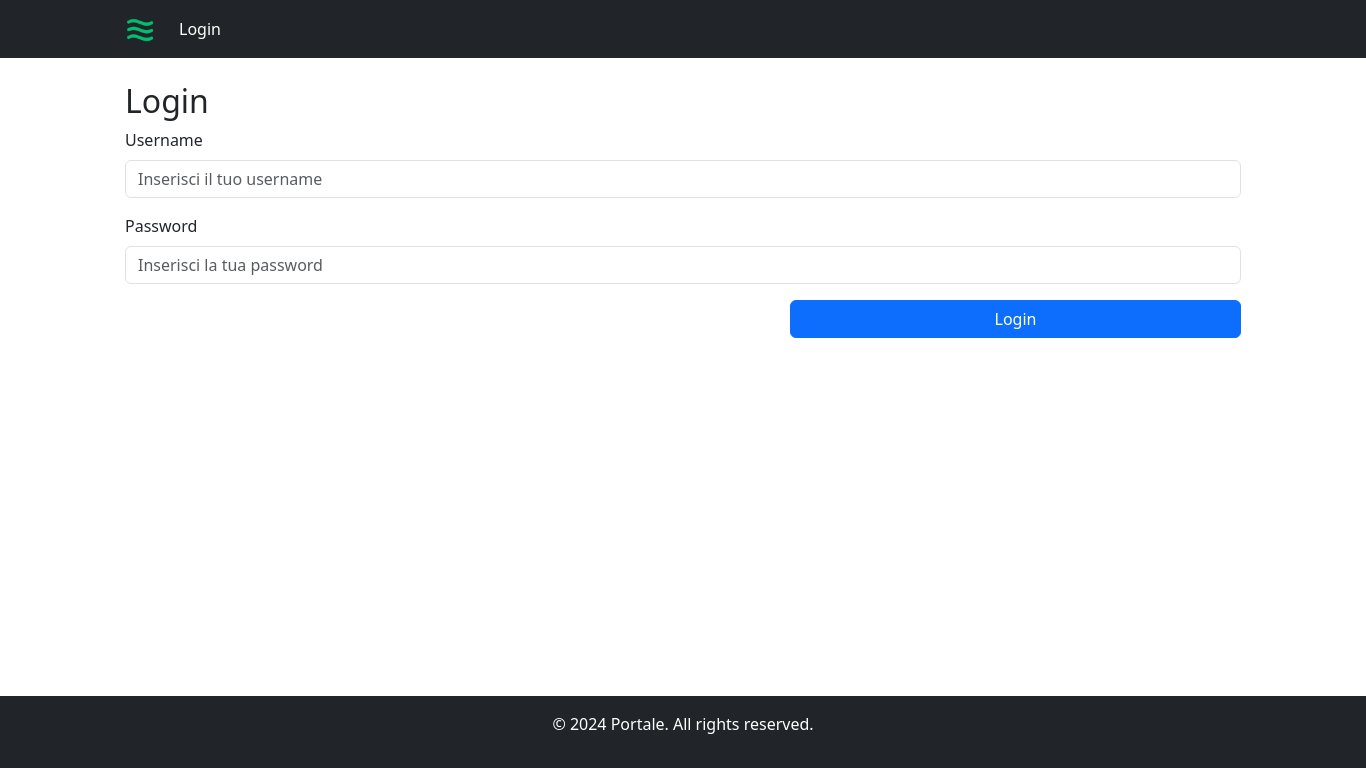
Test: Test Header.jsx › Test logout
In the field with id "username": point(683, 179) x1=125 y1=160 x2=1241 y2=198, type "Aldo"
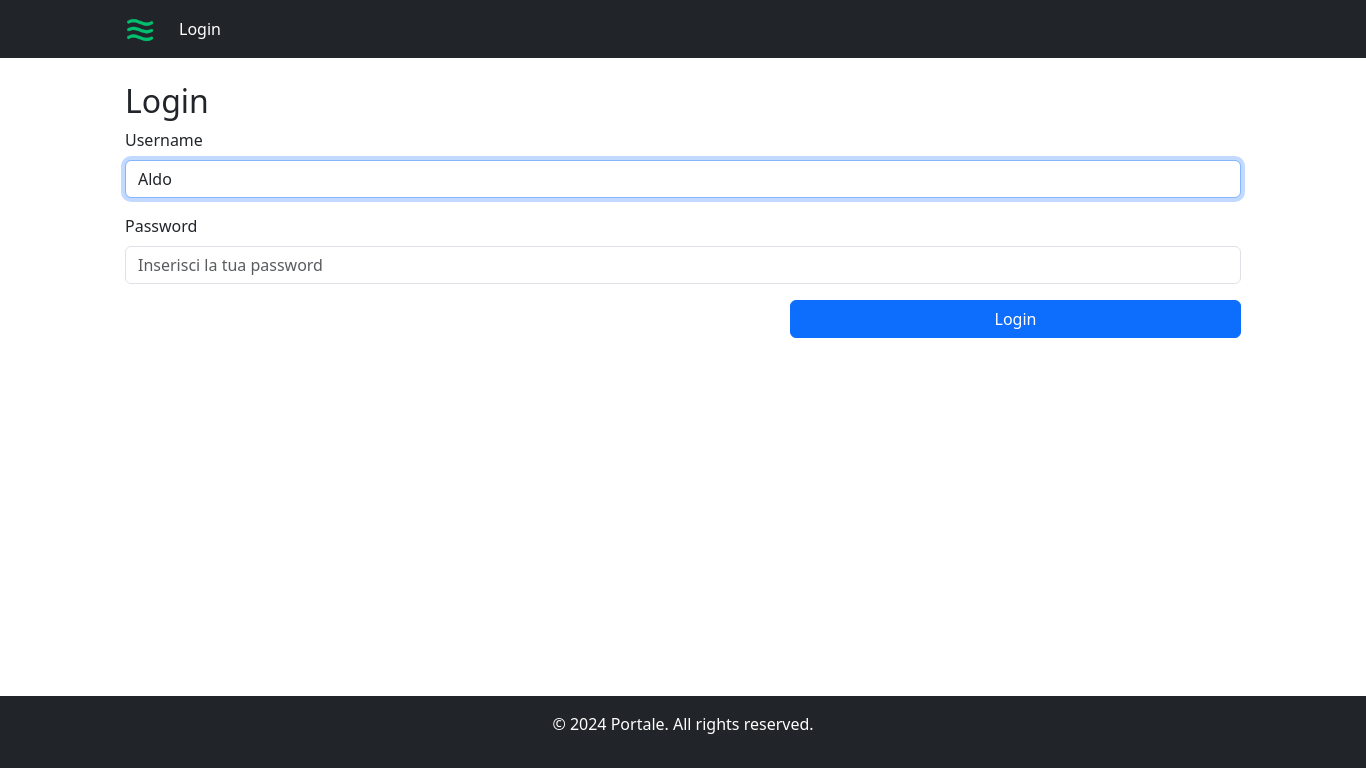
In the password field labelled "Password": point(683, 265) x1=125 y1=246 x2=1241 y2=284, type "123"
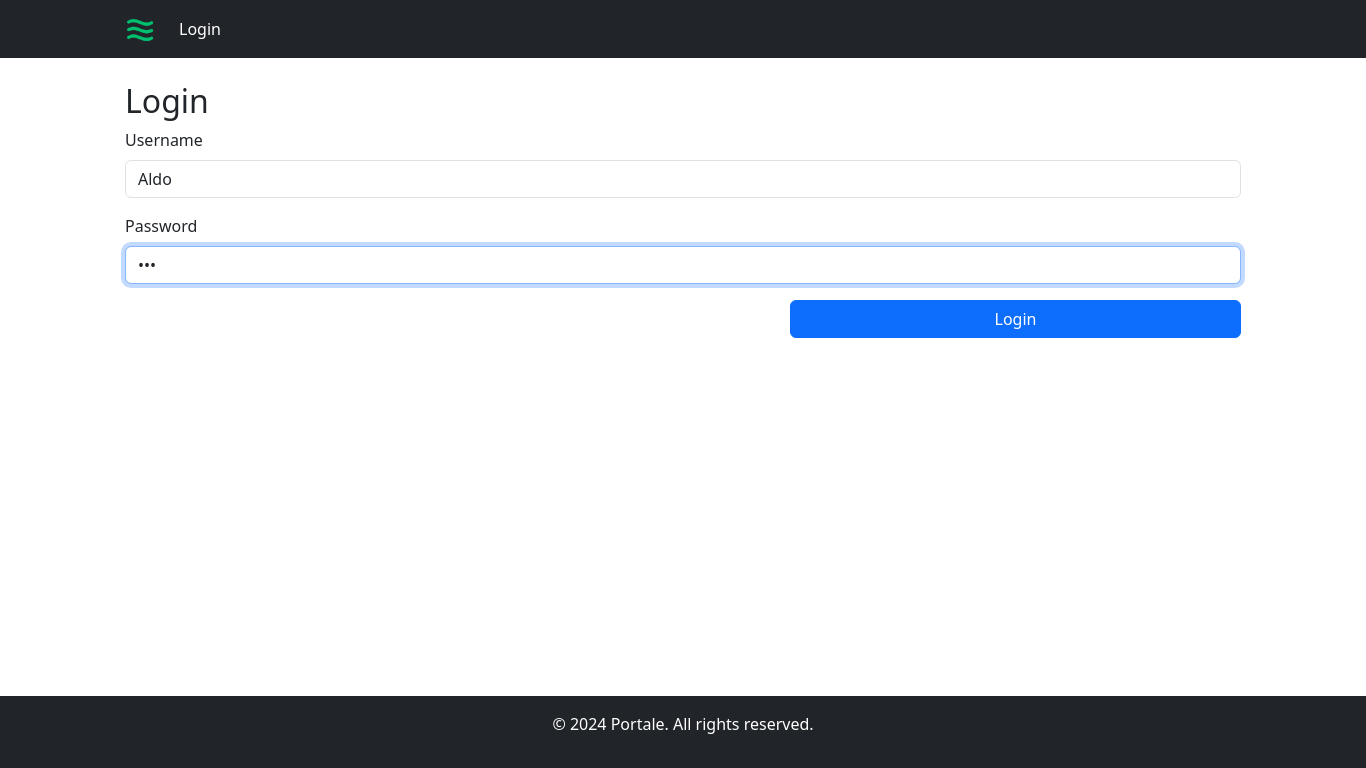
Click the button with id "button-login": point(1016, 319) x1=790 y1=300 x2=1241 y2=338
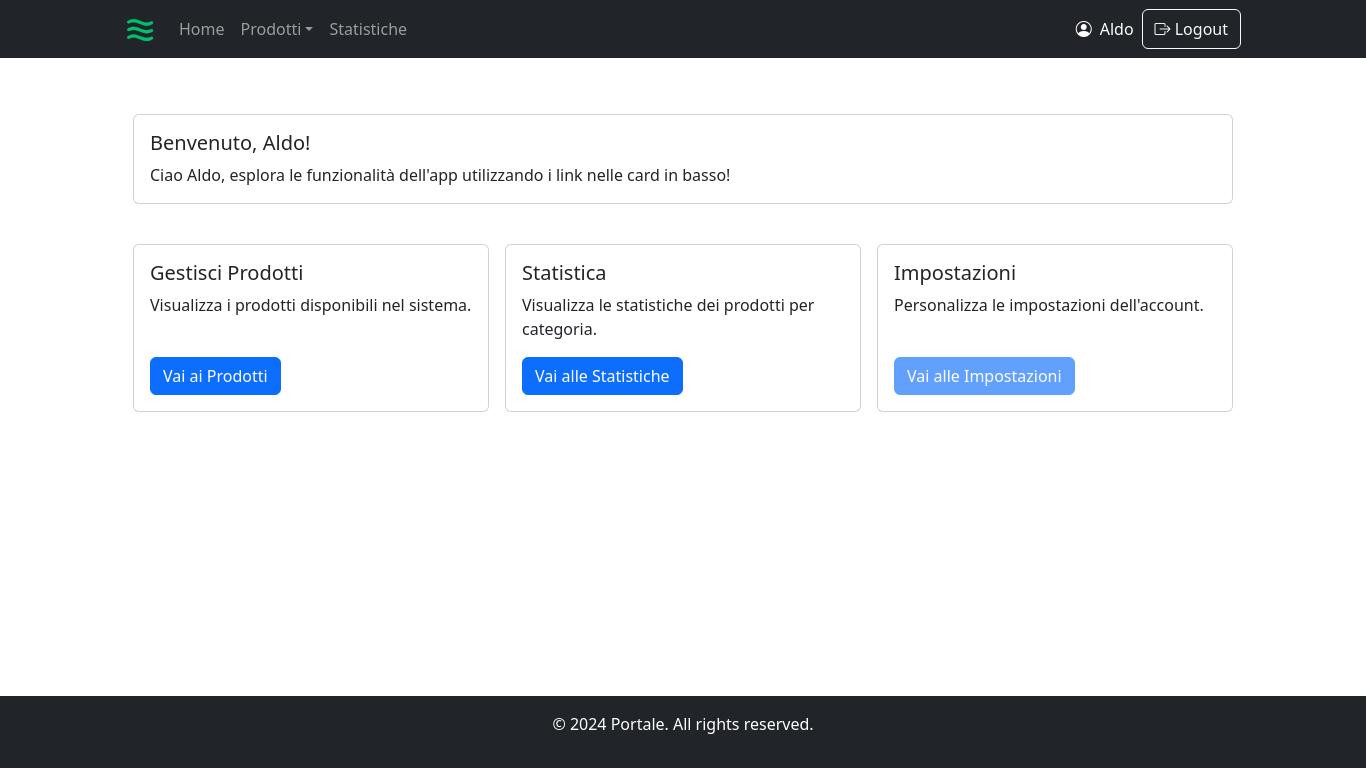
Click the button "Logout": point(1192, 29) x1=1142 y1=9 x2=1241 y2=49
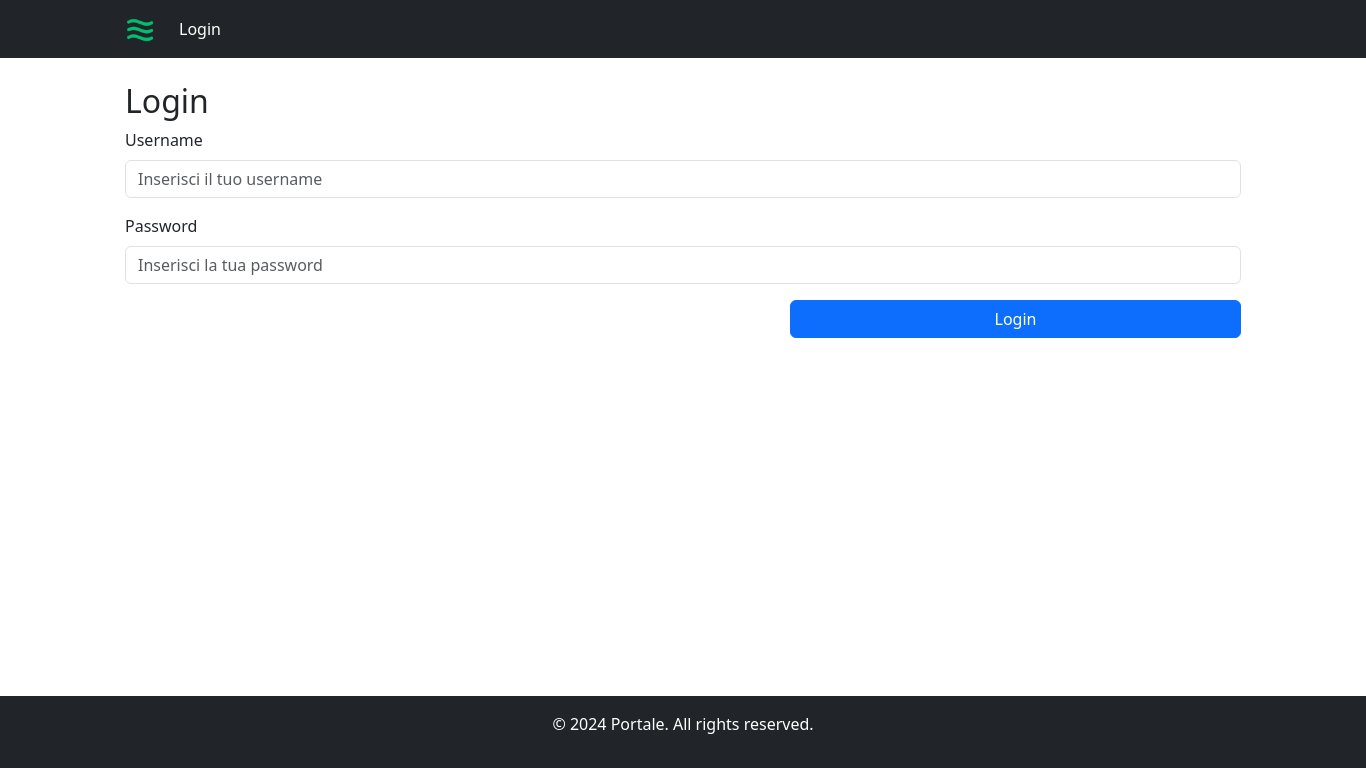
expect the link "Login" is shown: met, box x1=179 y1=18 x2=221 y2=40
